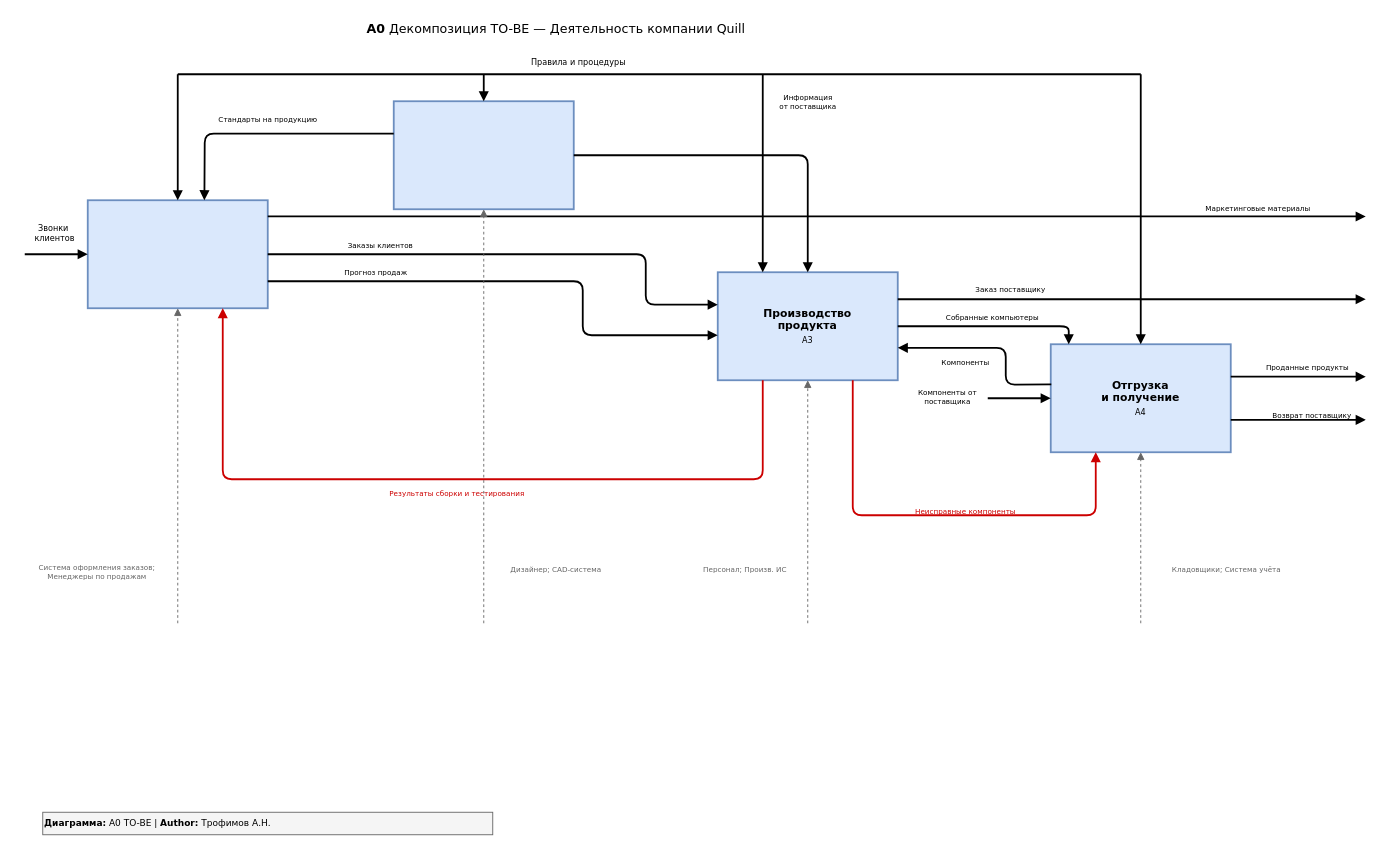
Image size: 1389x851. Some labels were removed from this diagram. Each missing label, with the centre of its shape:
"Продажи и маркетинг A1" belongs at [177,254].
"Разработать конфигурацию A2" belongs at [483,155].
